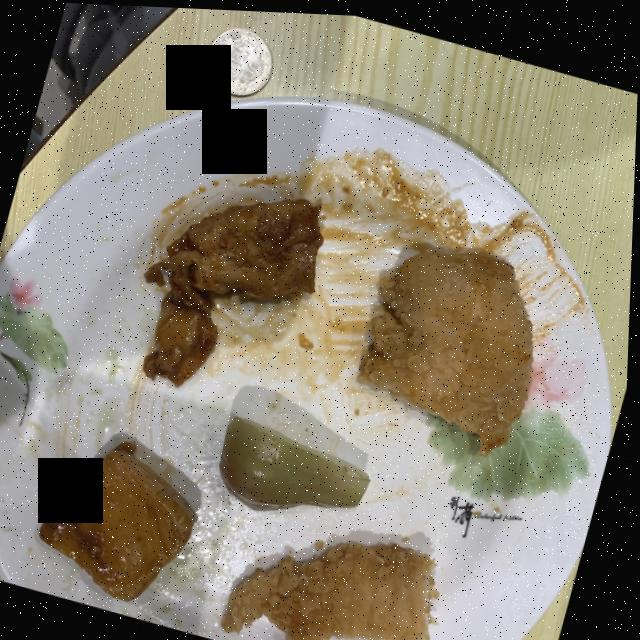coin: (207, 25, 273, 94)
creamy tofu: (146, 196, 325, 384), (43, 440, 201, 600)
fried chicken cutlet: (362, 246, 535, 450), (225, 539, 443, 640)
